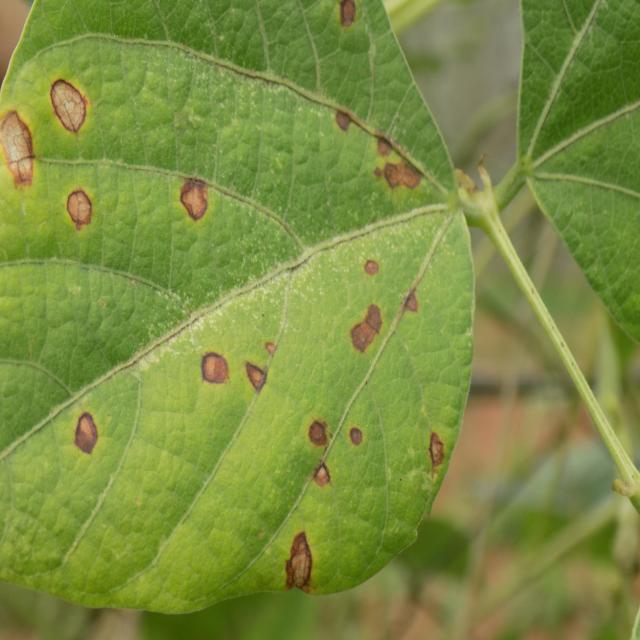Dolicos bean_cercospora leaf spot: (0, 0, 473, 610)
